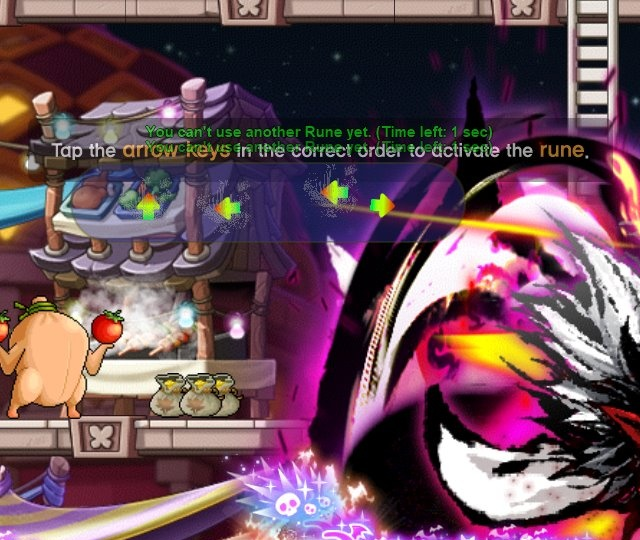left: (314, 177, 354, 209), (209, 194, 248, 226)
right: (366, 188, 401, 222)
up: (132, 190, 166, 223)
